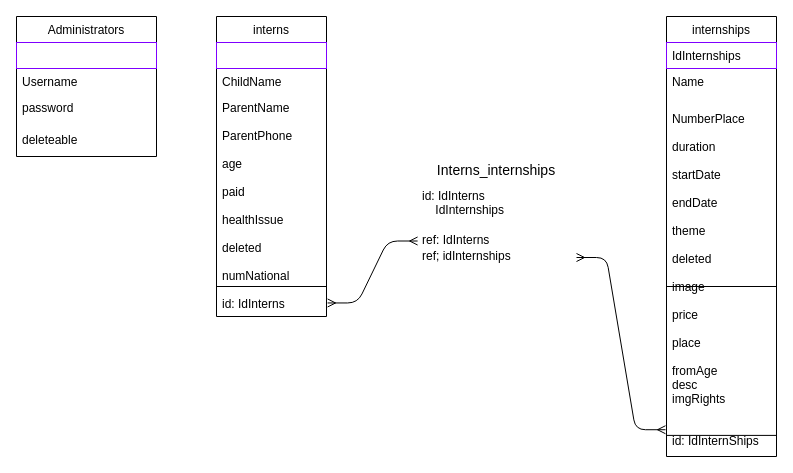
This 793x473 diagram has some shape labels left out. Here are the shapes that lost their labels. From the top down, the centre of each, then its label:
At (86,55): "Id".
At (271,55): "IdInterns".
